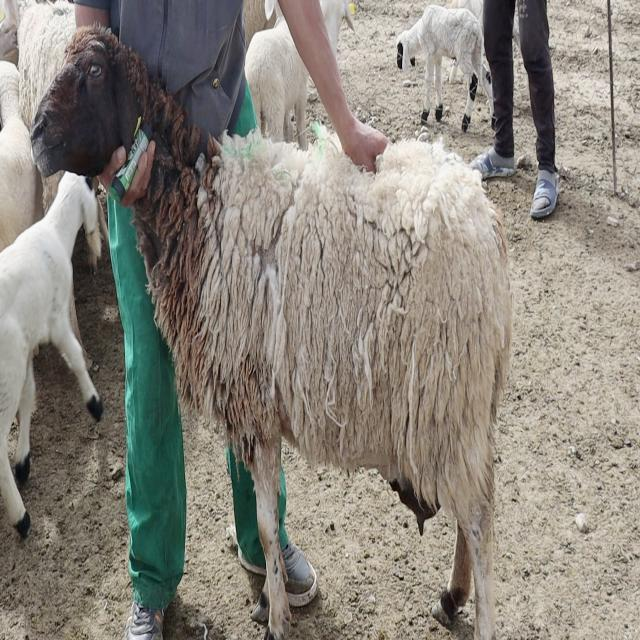Score_1: (31, 27, 512, 639)
